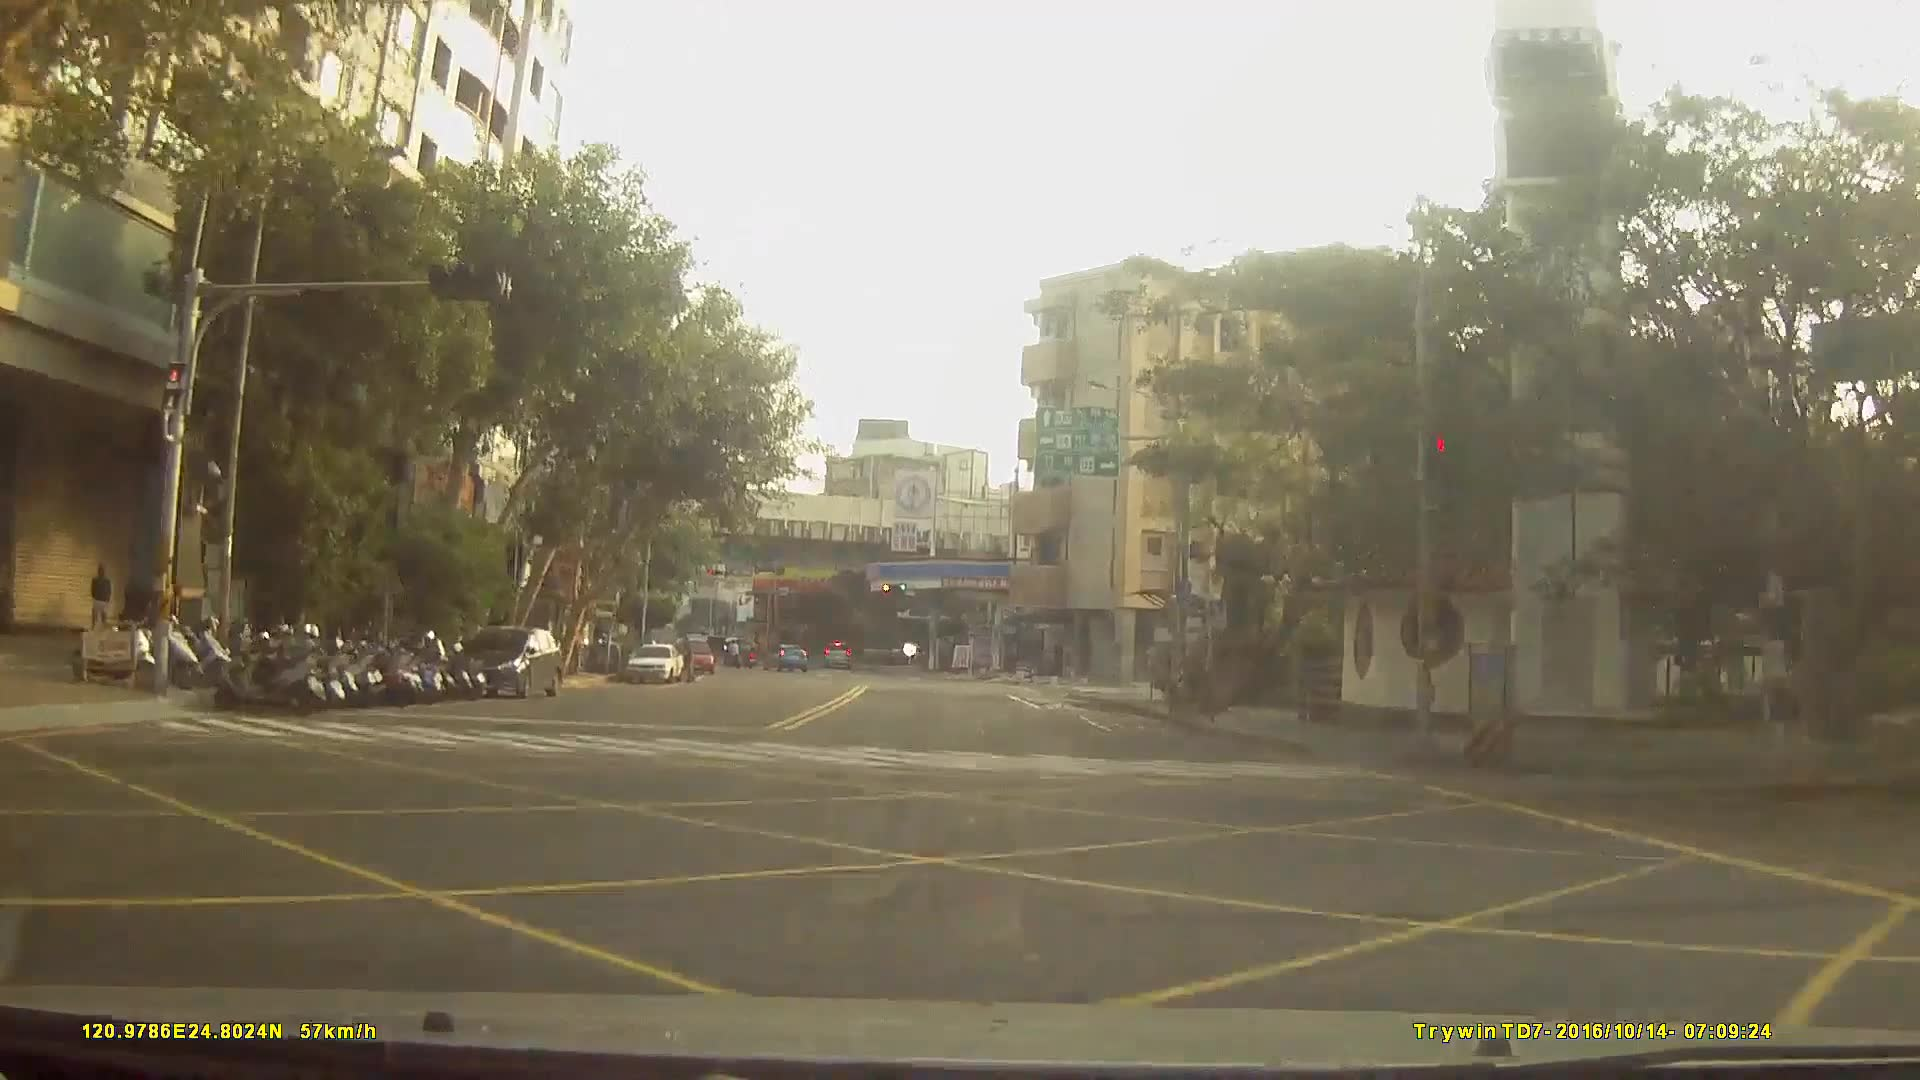pedestrian: (90, 563, 115, 640)
vehicle: (450, 621, 563, 697), (620, 637, 682, 680), (671, 635, 714, 673), (760, 641, 807, 672), (821, 636, 852, 664)
